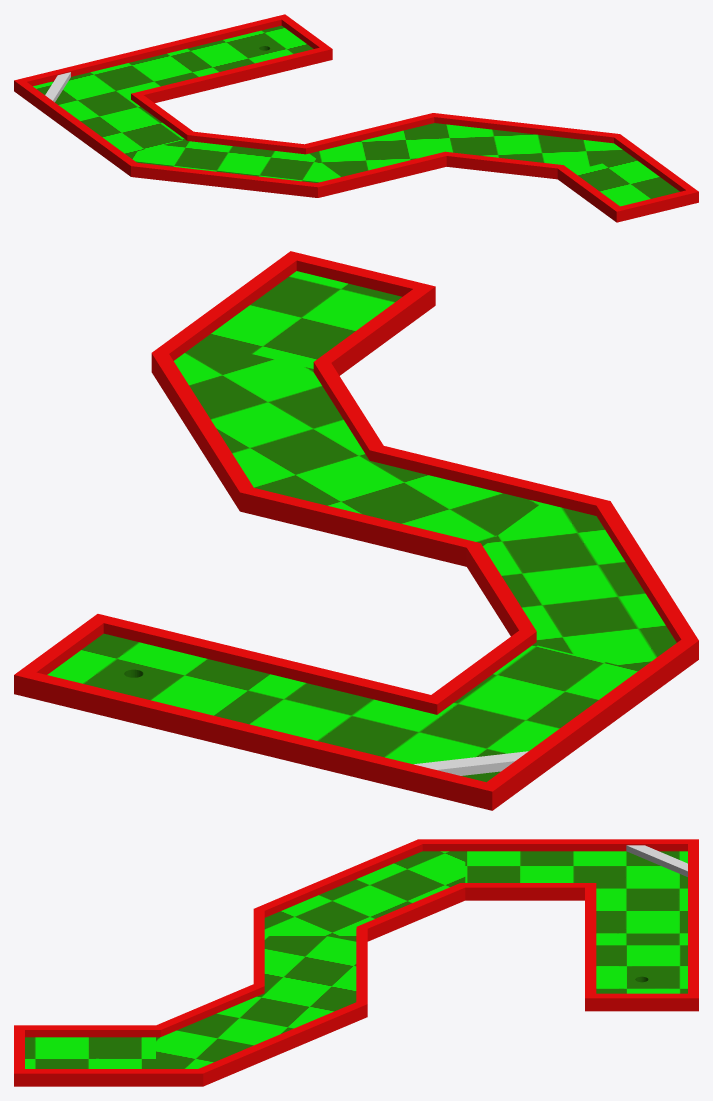
Rendered from Track8.fbx.
The picture shows the model from 3 angles, top to bottom: view 1: azimuth 30°, elevation 25°; view 2: azimuth 150°, elevation 25°; view 3: azimuth 270°, elevation 25°; orthographic projection. The views are drawn at different scales.
Visible parts, largest first — view 1: Track8_Track, Track8_Boundary, Track8_Extra; view 2: Track8_Track, Track8_Boundary, Track8_Extra; view 3: Track8_Track, Track8_Boundary, Track8_Extra.
Part boxes in pixels (x1,y1,x2,y2): Track8_Track: (33,25,679,206); Track8_Boundary: (14,14,698,222); Track8_Extra: (45,72,70,102); Track8_Track: (47,271,676,782); Track8_Boundary: (14,251,698,810); Track8_Extra: (414,751,528,775); Track8_Track: (25,851,687,1068); Track8_Boundary: (14,839,698,1086); Track8_Extra: (626,845,687,876).
Size of the model in its own units: 423 by 11 by 523.
